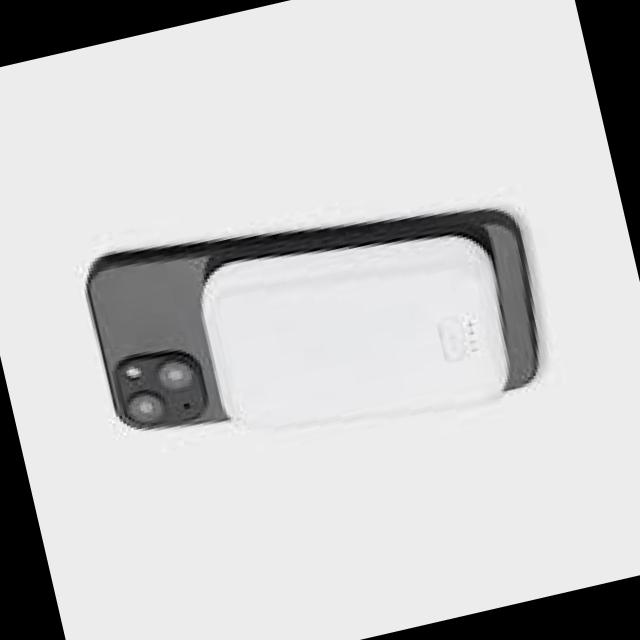power_bank: (190, 200, 523, 458)
